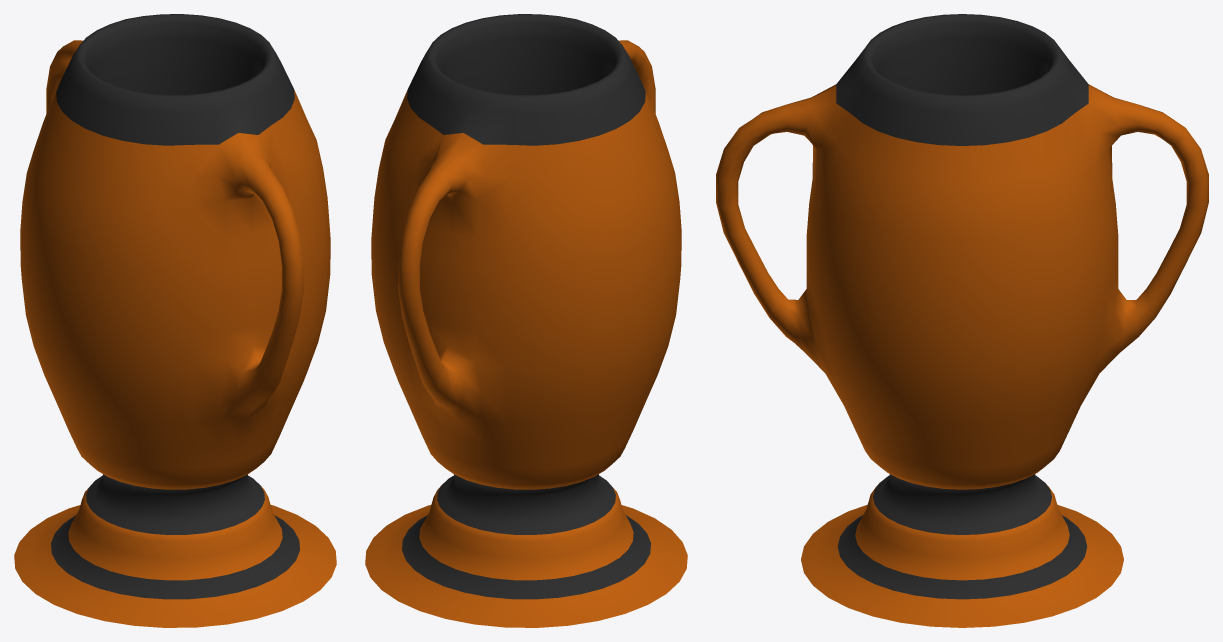
File: Vaso.fbx
The picture shows the model from 3 angles, left to right: view 1: azimuth 30°, elevation 25°; view 2: azimuth 150°, elevation 25°; view 3: azimuth 270°, elevation 25°; orthographic projection.
Parts seen in each view (by area): view 1: Cylinder; view 2: Cylinder; view 3: Cylinder.
Part boxes in pixels (bbox=[...]): Cylinder: bbox=[14, 14, 336, 627]; Cylinder: bbox=[365, 14, 687, 627]; Cylinder: bbox=[716, 14, 1208, 627].
Size of the model in its own units: 35.37 by 60.89 by 53.92.
